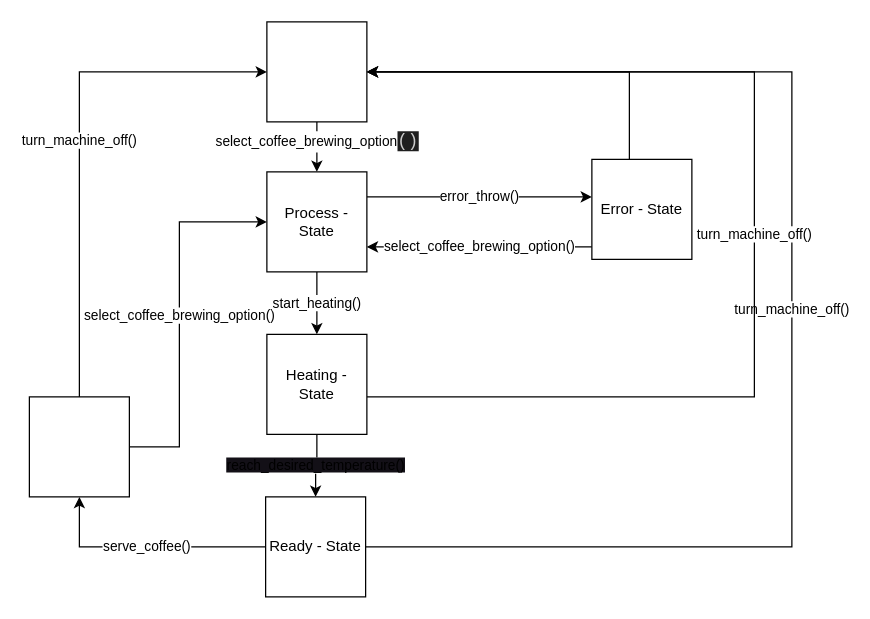
This 870x619 diagram has some shape labels left out. Here are the shapes that lost their labels. From the top down, the box of each, then its label:
(266, 21, 367, 122): Off - State
(28, 396, 129, 497): Waiting - State
